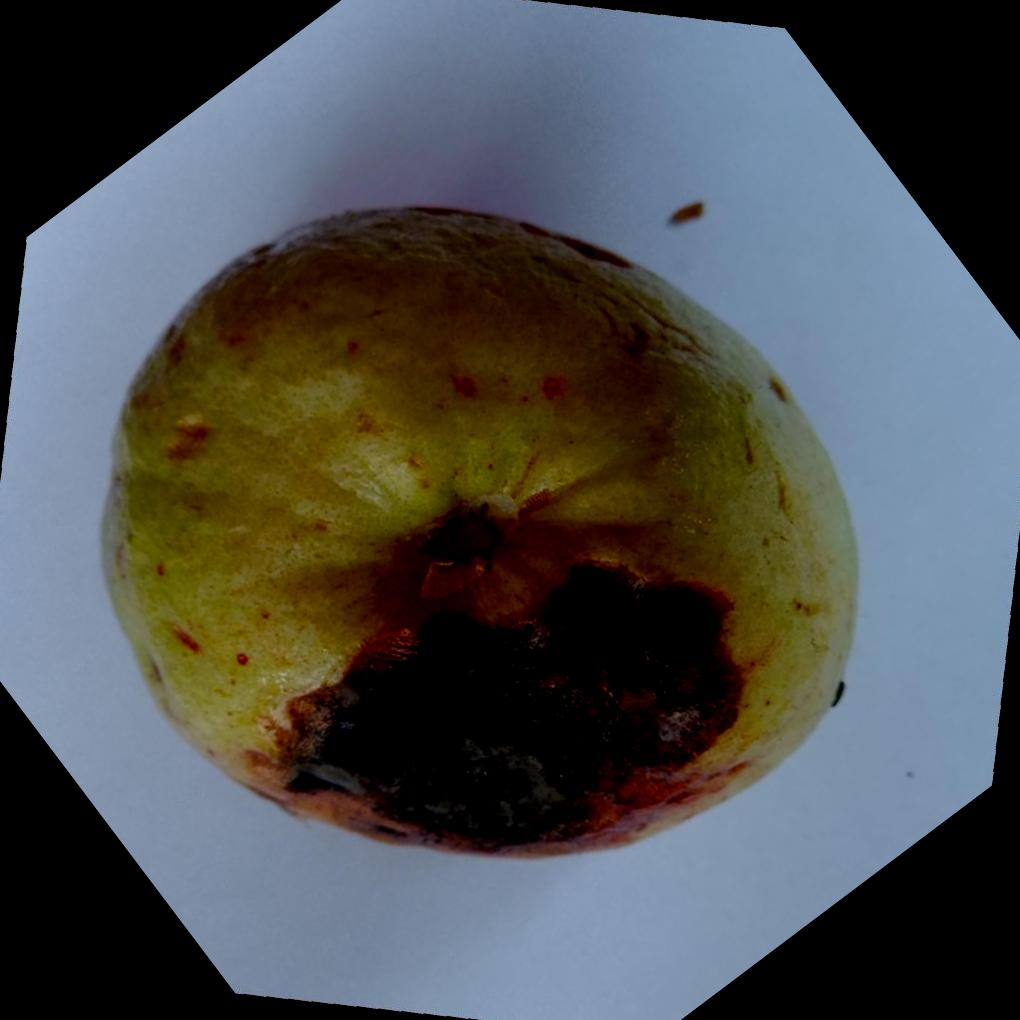FreshOrange: (99, 202, 865, 860)
